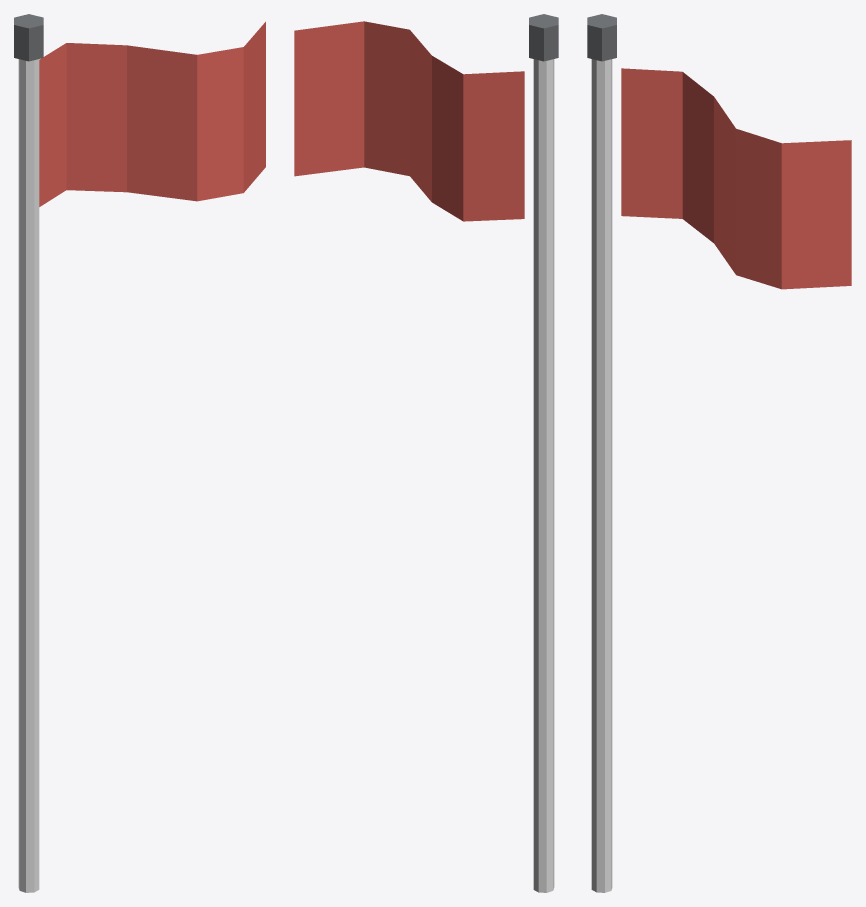
File: flag_01.glb
3 views of the same model, side by side, from view 1: azimuth 30°, elevation 25°; view 2: azimuth 150°, elevation 25°; view 3: azimuth 330°, elevation 25° (orthographic).
Visible parts, largest first — view 1: Flag_01; view 2: Flag_01; view 3: Flag_01.
Boxes of the visible parts, bbox=[...] form: Flag_01: bbox=[14, 14, 265, 892]; Flag_01: bbox=[294, 14, 558, 892]; Flag_01: bbox=[587, 14, 851, 892].
Bounding box in the file's own units: 0.695 × 2.23 × 0.1817.
